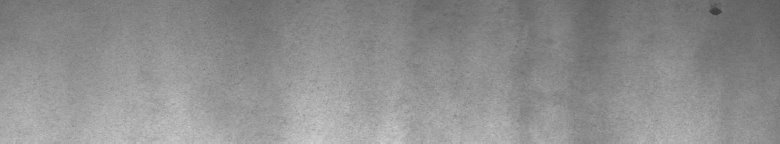fi: (707, 4, 726, 22)
